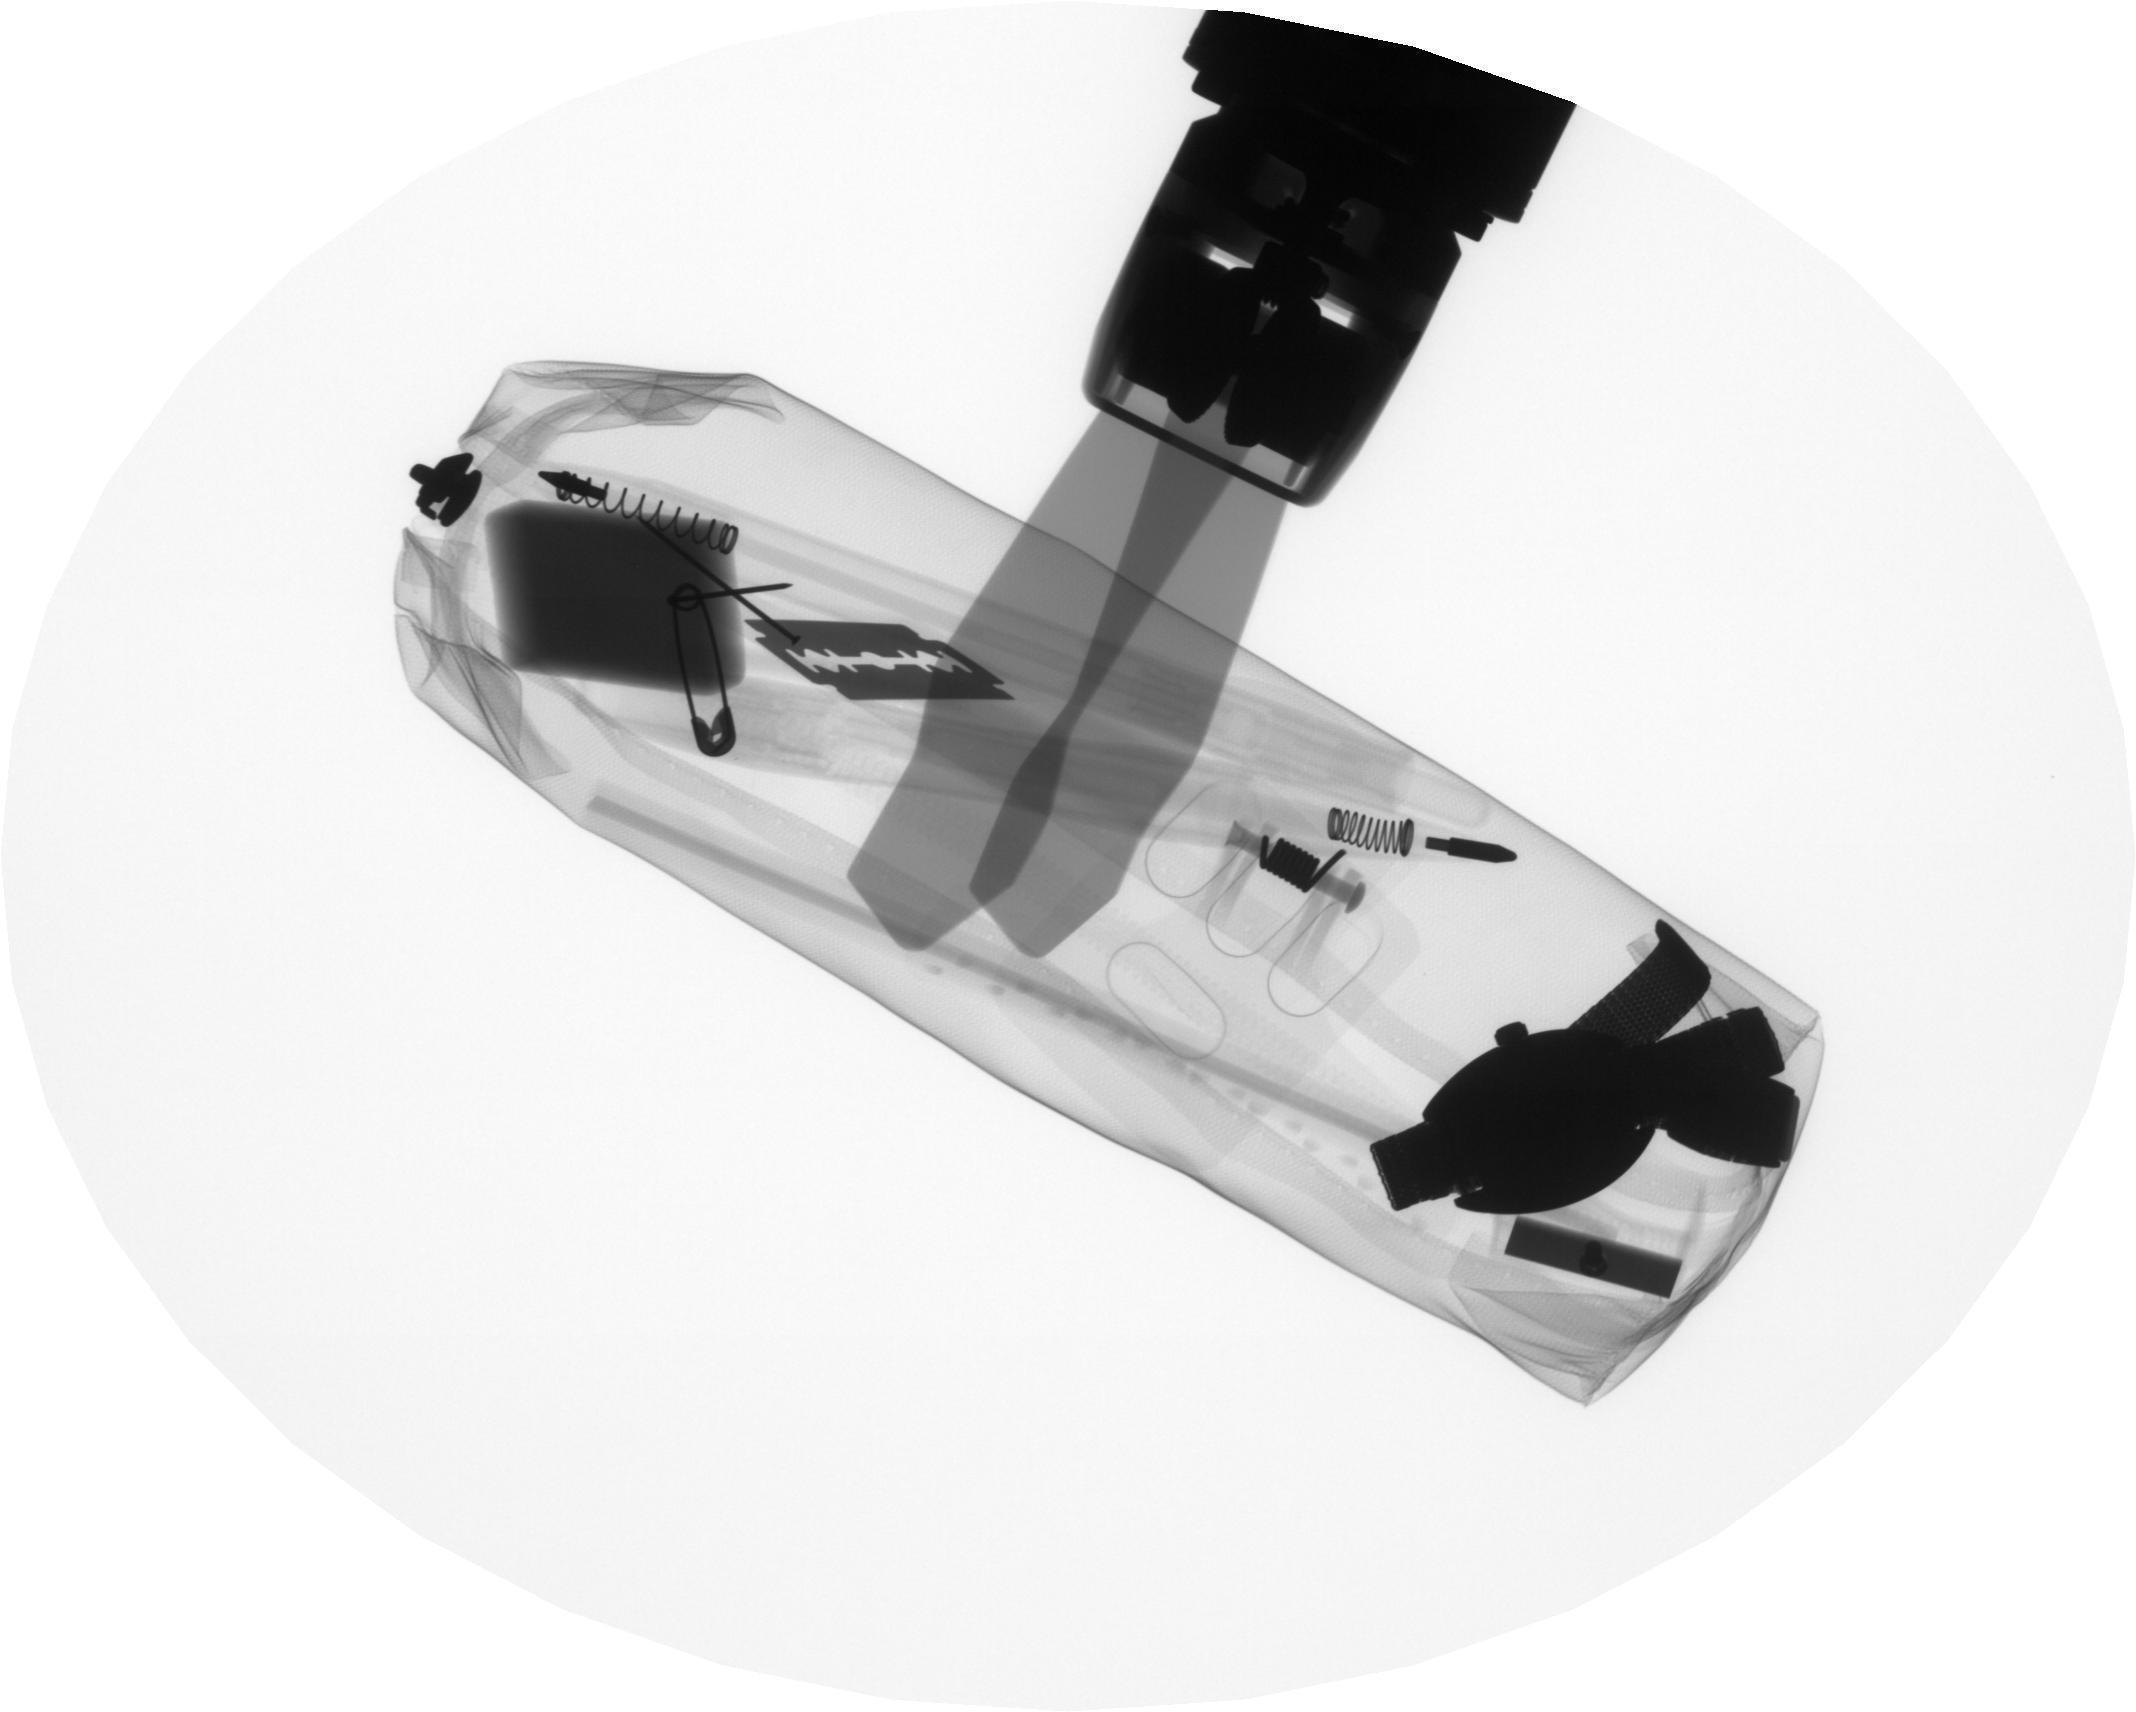RazorBlade: (732, 596, 1023, 735)
